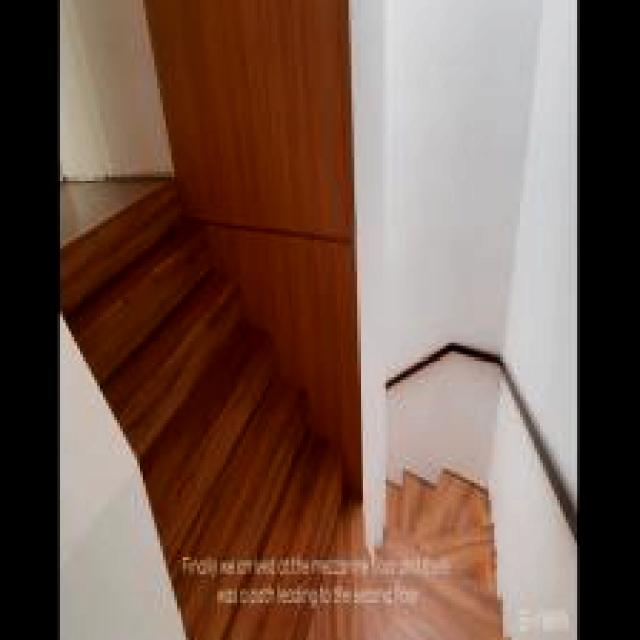upstair: (55, 201, 290, 481)
